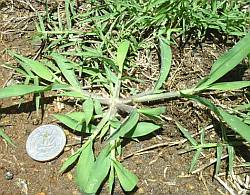crabgrass: (15, 29, 241, 185)
